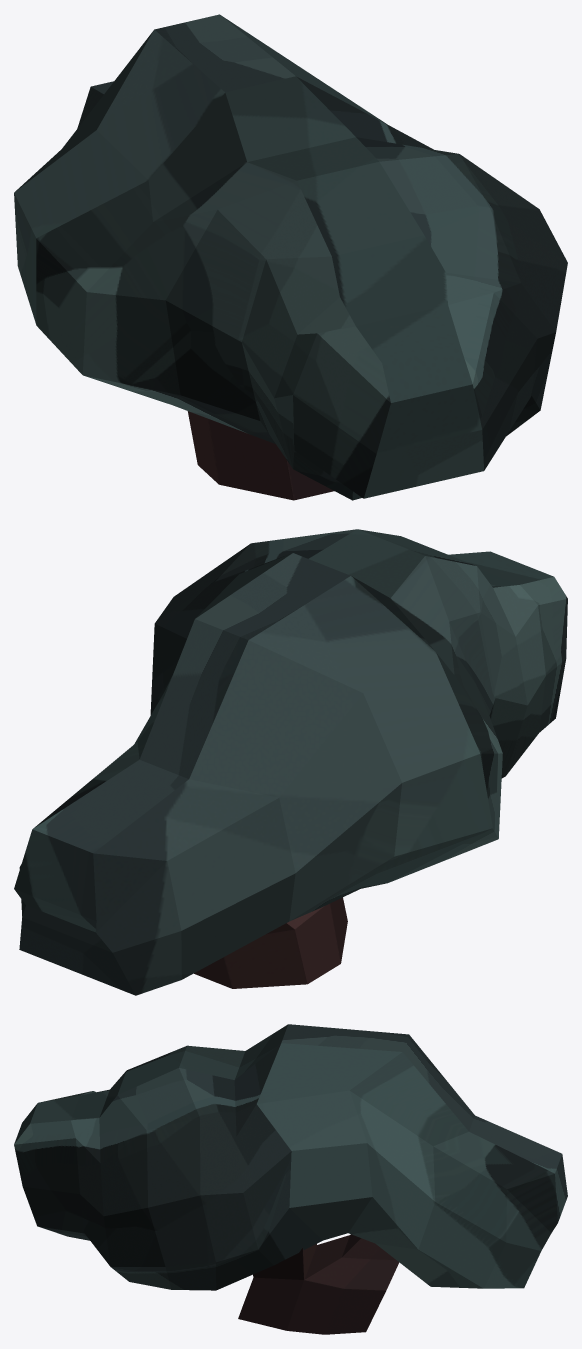
Rendered from Olive1_sup.obj.
3 renders of one model, top to bottom at view 1: azimuth 30°, elevation 25°; view 2: azimuth 150°, elevation 25°; view 3: azimuth 270°, elevation 25°, orthographic. The views are drawn at different scales.
Parts seen in each view (by area): view 1: Olive1_sup; view 2: Olive1_sup; view 3: Olive1_sup.
Boxes of the visible parts, x1=… form: Olive1_sup: x1=14, y1=14, x2=567, y2=500; Olive1_sup: x1=14, y1=529, x2=567, y2=995; Olive1_sup: x1=14, y1=1024, x2=567, y2=1334.
Size of the model in its own units: 5.28 by 4.9 by 8.93.
Materials: 1 (1 with a texture image).
